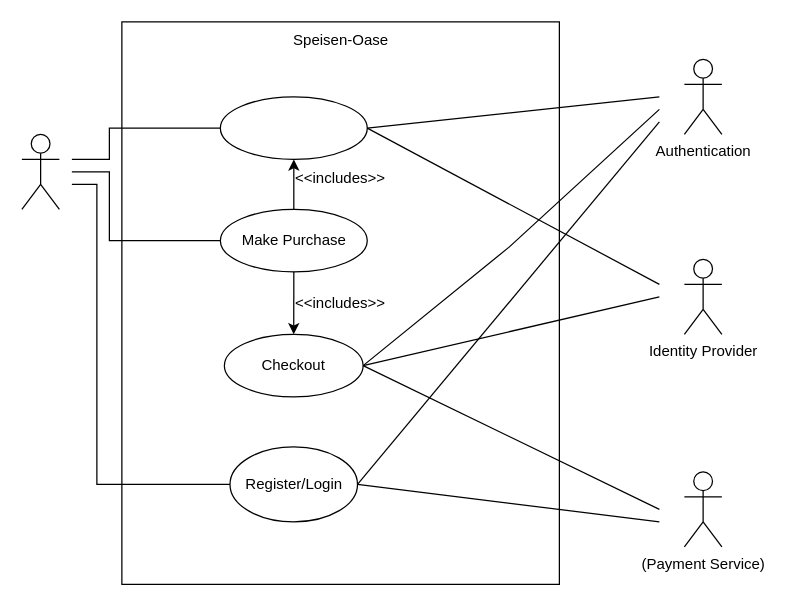
This 786x606 diagram has some shape labels left out. The shapes that lost their labels are listed below. From the top down, each one's centre as x and y in pixels, then its label:
At point 293,127: "View Items".
At point 40,171: "User".
